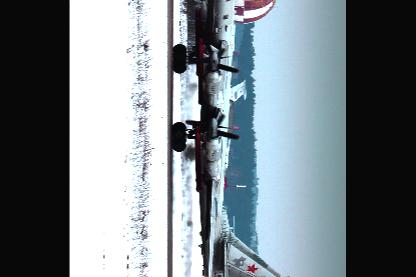Su57: (172, 0, 291, 276)
